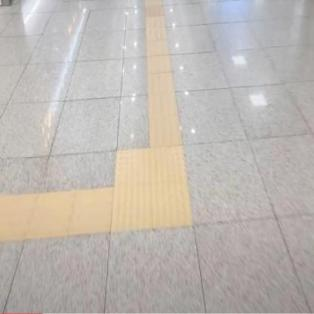Podoctatil: (97, 111, 221, 269), (1, 186, 109, 240), (146, 1, 182, 144)
